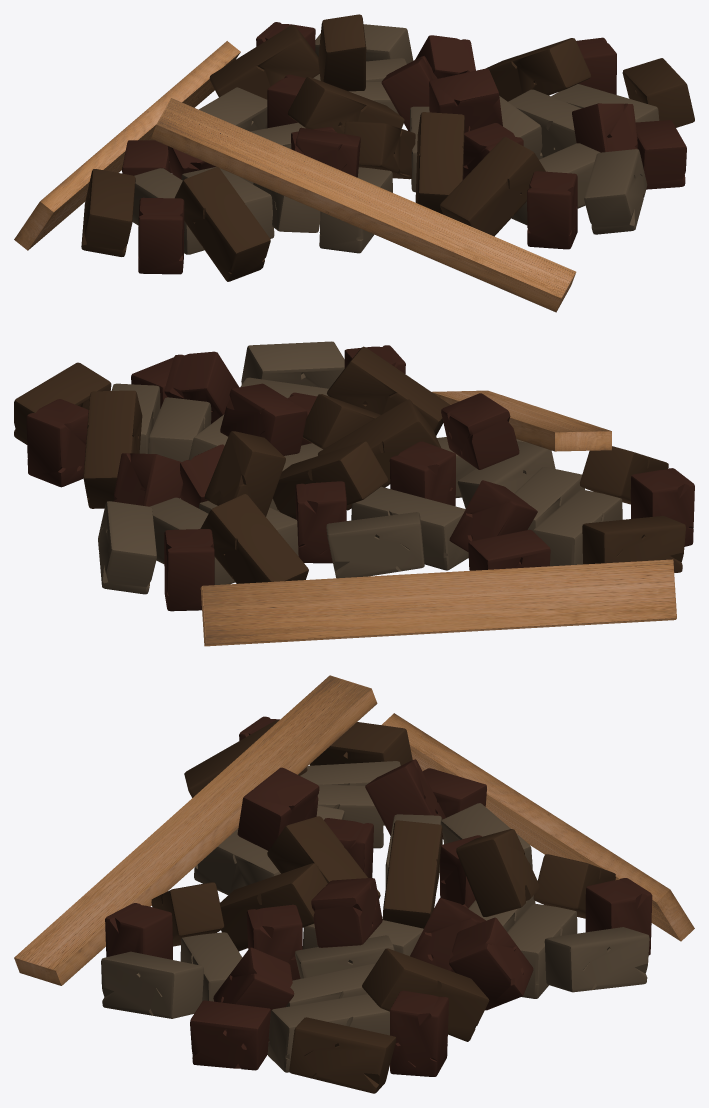
File: RUBBLE 1.FBX
3 views of the same model, one above another, from view 1: azimuth 30°, elevation 25°; view 2: azimuth 150°, elevation 25°; view 3: azimuth 270°, elevation 25° (orthographic). The views are drawn at different scales.
Visible parts, largest first — view 1: Box2235, Box2236, Box2213, Box1511, Box1509, Box1496, Box1490, Box1508, Box2211, Box1512, Box2199, Box2212 (+29 smaller); view 2: Box2236, Box1496, Box2202, Box1508, Box1501, Box1507, Box1511, Box2211, Box1514, Box2199, Box2206, Box2235 (+29 smaller); view 3: Box2235, Box2236, Box1502, Box1501, Box1509, Box1508, Box2199, Box1505, Box1514, Box1497, Box1507, Box2206 (+27 smaller).
Boxes of the visible parts, <box> form: Box2235: <box>151,98,576,312</box>; Box2236: <box>14,41,240,250</box>; Box2213: <box>175,167,270,281</box>; Box1511: <box>440,137,545,236</box>; Box1509: <box>584,149,647,234</box>; Box1496: <box>209,24,319,99</box>; Box1490: <box>415,112,464,214</box>; Box1508: <box>486,38,590,101</box>; Box2211: <box>81,169,135,256</box>; Box1512: <box>527,171,577,249</box>; Box2199: <box>287,77,404,133</box>; Box2212: <box>138,197,184,274</box>; Box2236: <box>200,559,676,646</box>; Box1496: <box>200,494,308,583</box>; Box2202: <box>326,512,424,578</box>; Box1508: <box>83,390,142,508</box>; Box1501: <box>98,501,156,594</box>; Box1507: <box>26,399,88,487</box>; Box1511: <box>327,346,449,435</box>; Box2211: <box>582,516,685,572</box>; Box1514: <box>204,431,285,516</box>; Box2199: <box>272,441,387,519</box>; Box2206: <box>441,393,519,469</box>; Box2235: <box>432,390,611,451</box>; Box2235: <box>14,675,377,985</box>; Box2236: <box>381,713,694,941</box>; Box1502: <box>289,1017,396,1093</box>; Box1501: <box>544,927,649,992</box>; Box1509: <box>101,951,203,1018</box>; Box1508: <box>362,948,489,1041</box>; Box2199: <box>382,820,442,928</box>; Box1505: <box>190,1000,270,1070</box>; Box1514: <box>456,829,539,916</box>; Box1497: <box>449,917,533,1010</box>; Box1507: <box>390,990,448,1076</box>; Box2206: <box>237,767,319,850</box>.
Size of the model in its own units: 34.33 by 7.77 by 29.03.
